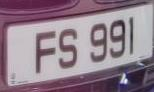1: (126, 13, 137, 61)
9: (87, 16, 109, 70), (108, 15, 128, 63)
F: (31, 24, 61, 79)
S: (56, 21, 82, 75)
